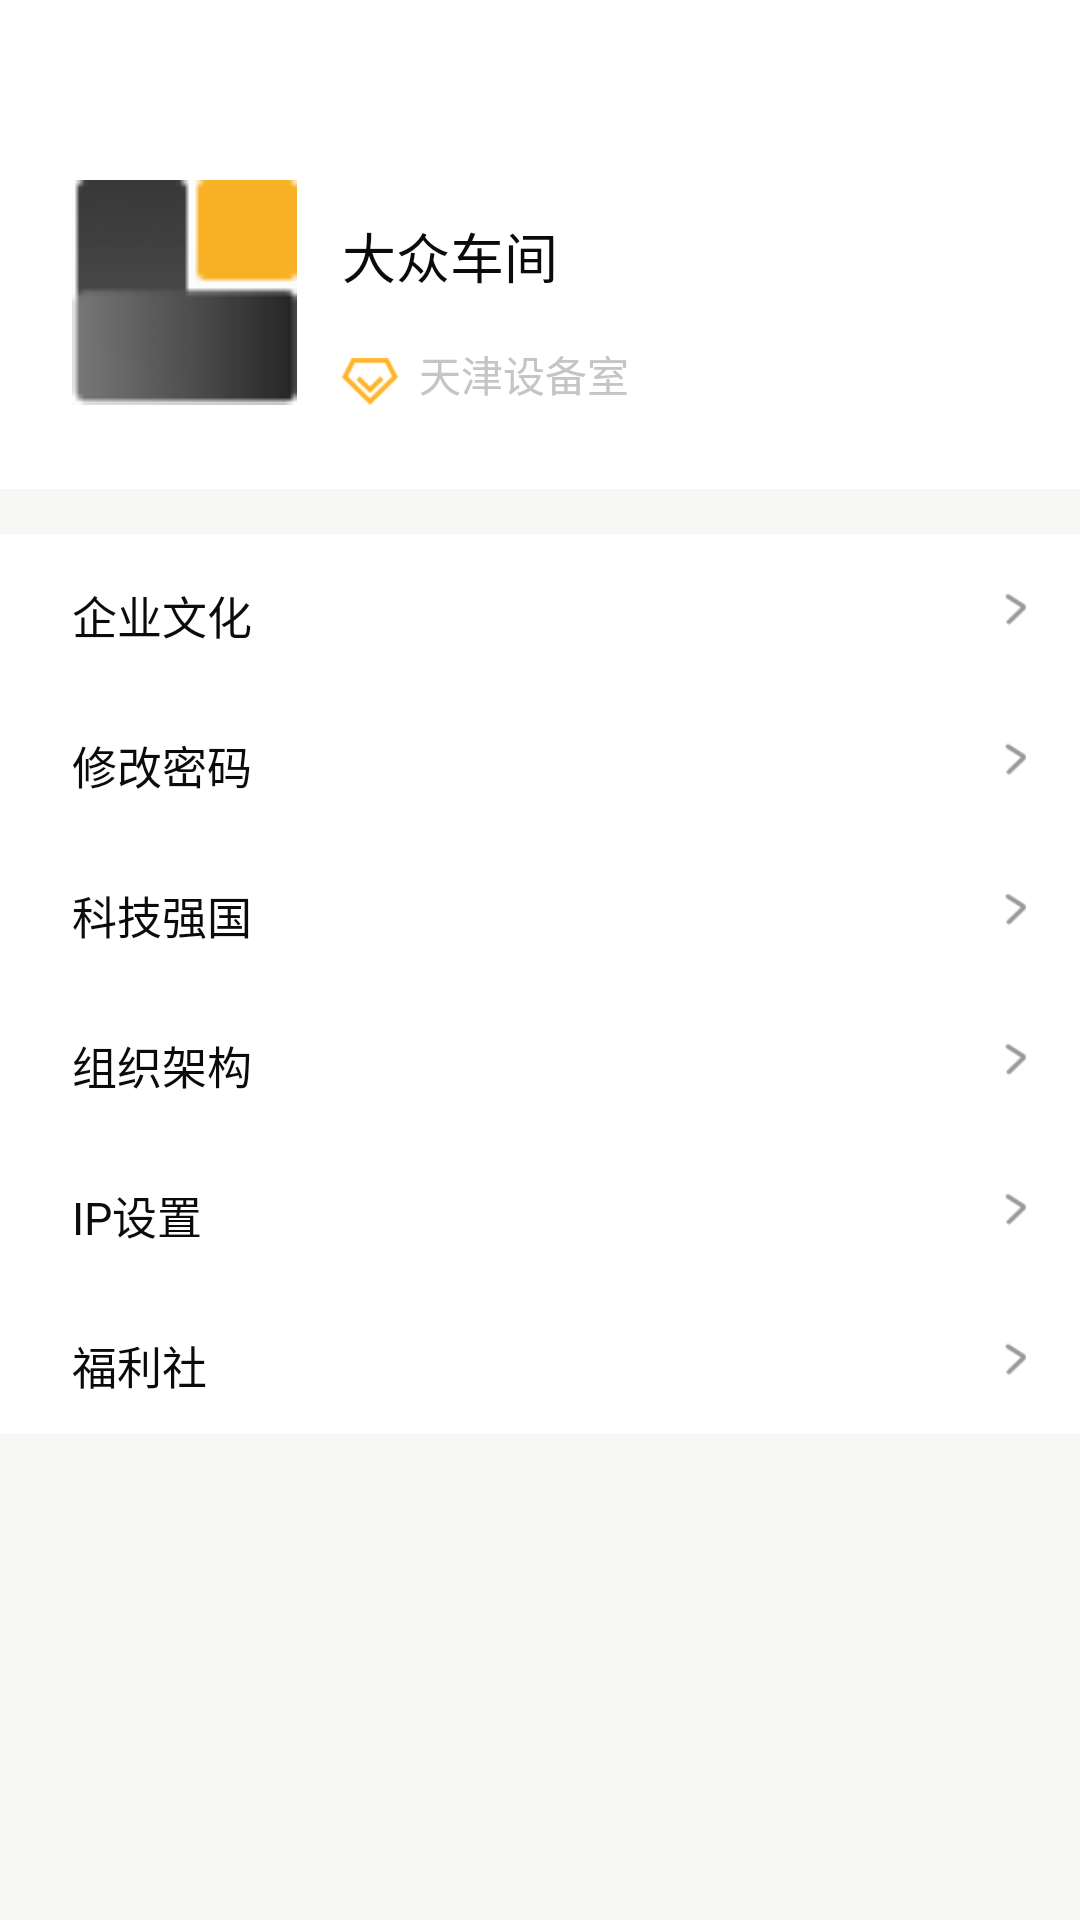

Where icons sit on this 1080 x 1920 app screen, as (x1, y1, x2, y2):
vip level: (342, 358, 398, 405)
